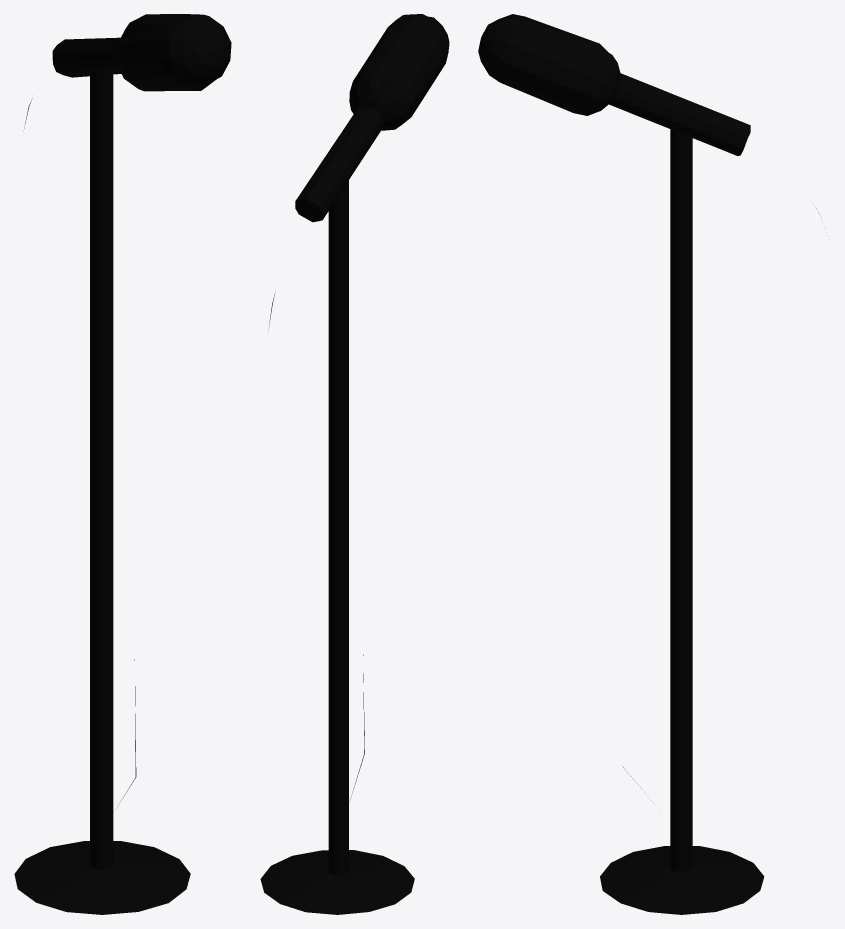
The model's file is Micro.glb.
3 views of the same model, side by side, from view 1: azimuth 30°, elevation 25°; view 2: azimuth 150°, elevation 25°; view 3: azimuth 270°, elevation 25° (orthographic). The views are drawn at different scales.
Parts seen in each view (by area): view 1: Micro; view 2: Micro; view 3: Micro.
Boxes of the visible parts, box(x1,y1,x2,y2) form: Micro: box(14, 14, 231, 914); Micro: box(260, 14, 449, 914); Micro: box(478, 14, 819, 914).
Size of the model in its own units: 150 by 873 by 323.
1 material, 1 textured.
